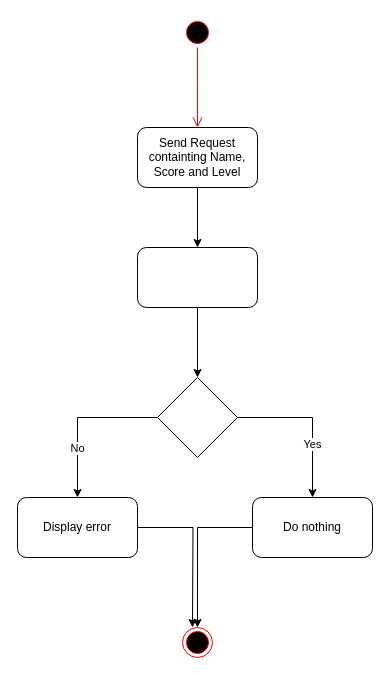
Image size: 390x675. Some labels were removed from this diagram. The centre of each missing label's shape, as x and y in pixels:
Get response: point 197,277
Success?: point 197,417
